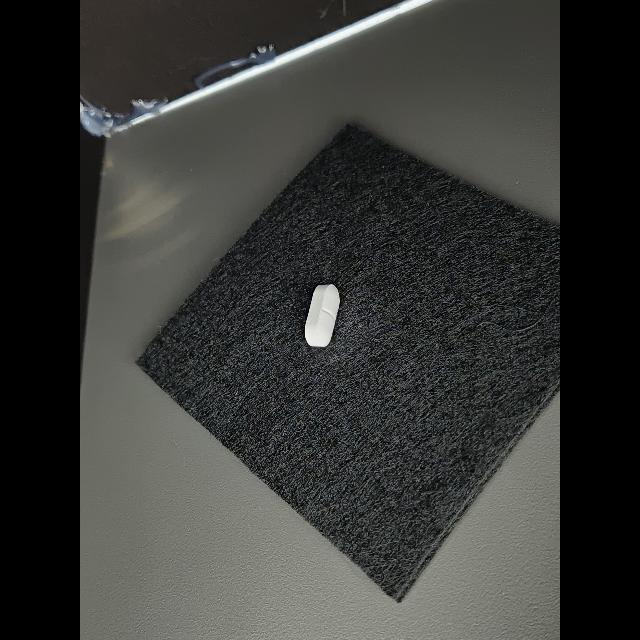Intact Pill: (305, 285, 340, 346)
